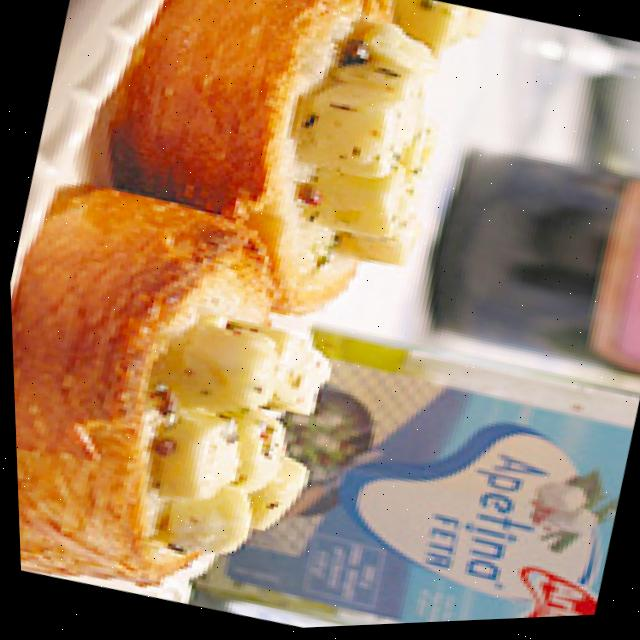面包点心: (0, 0, 505, 640)
